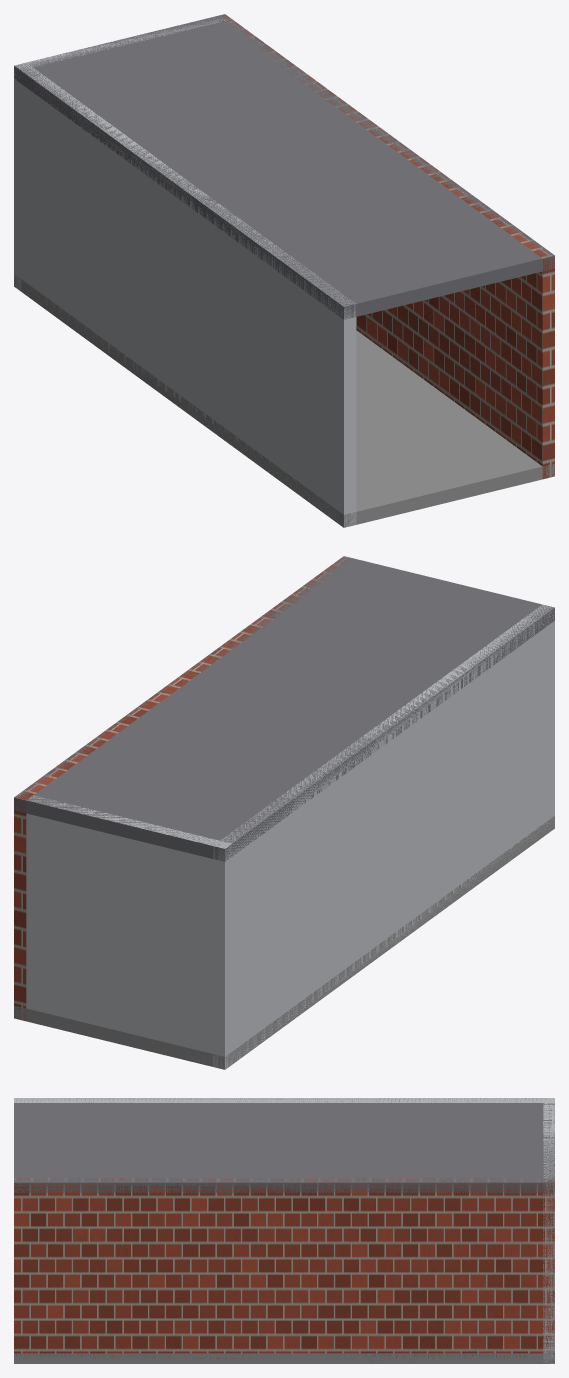
3 renders of one model, top to bottom at view 1: azimuth 30°, elevation 25°; view 2: azimuth 150°, elevation 25°; view 3: azimuth 270°, elevation 25°, orthographic. The views are drawn at different scales.
Visible parts, largest first — view 1: Ceiling, Wall_Left, Wall_Brick, Floor, Back; view 2: Wall_Left, Ceiling, Back, Floor, Wall_Brick; view 3: Wall_Brick, Ceiling, Floor, Back, Wall_Left.
Boxes of the visible parts, x1,y1,x2,y2 form: Ceiling: [14, 14, 554, 319]; Wall_Left: [14, 62, 356, 527]; Wall_Brick: [221, 14, 554, 478]; Floor: [14, 275, 554, 527]; Back: [14, 17, 229, 290]; Wall_Left: [212, 604, 554, 1069]; Ceiling: [14, 556, 554, 861]; Back: [17, 792, 232, 1069]; Floor: [14, 816, 554, 1069]; Wall_Brick: [14, 556, 347, 1020]; Wall_Brick: [14, 1177, 554, 1363]; Ceiling: [14, 1098, 554, 1193]; Floor: [14, 1353, 554, 1363]; Back: [543, 1098, 554, 1363]; Wall_Left: [14, 1098, 554, 1102].
Size of the model in its own units: 3.4 by 3.4 by 9.2.
7 materials, 1 textured.
